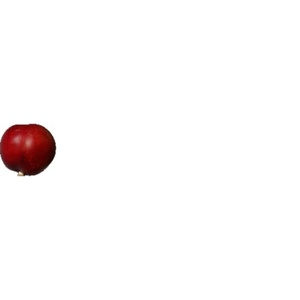nectarina: (1, 124, 57, 177)
